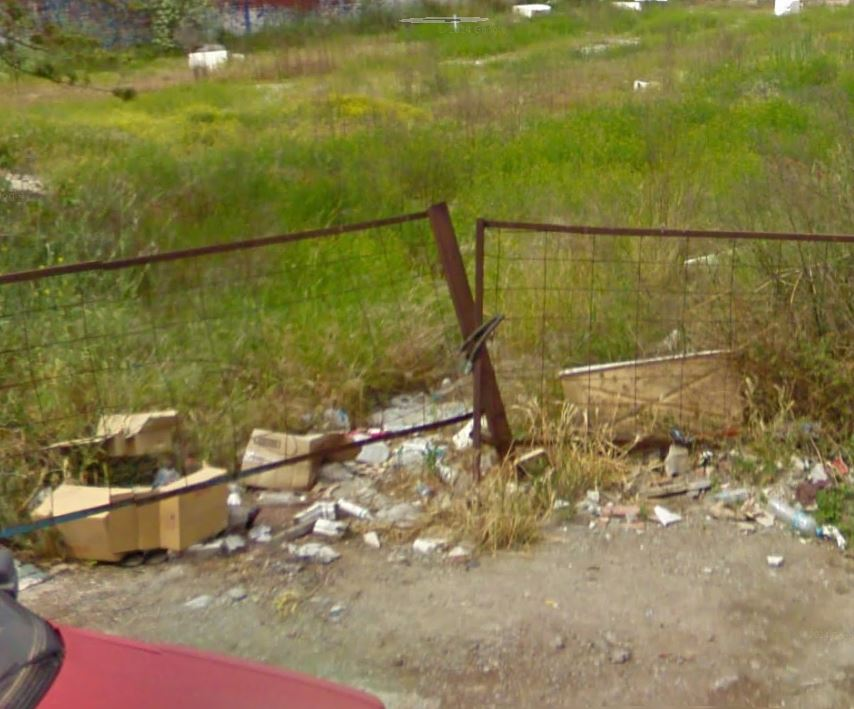trash: (462, 283, 854, 587), (21, 346, 501, 582)
